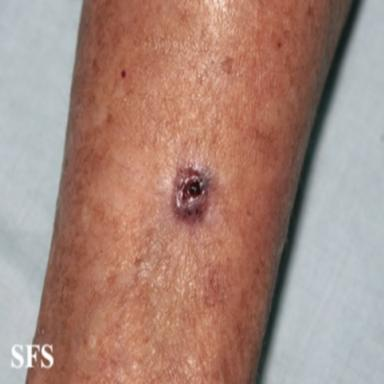basal-cell-carcinoma: (170, 161, 218, 225)
